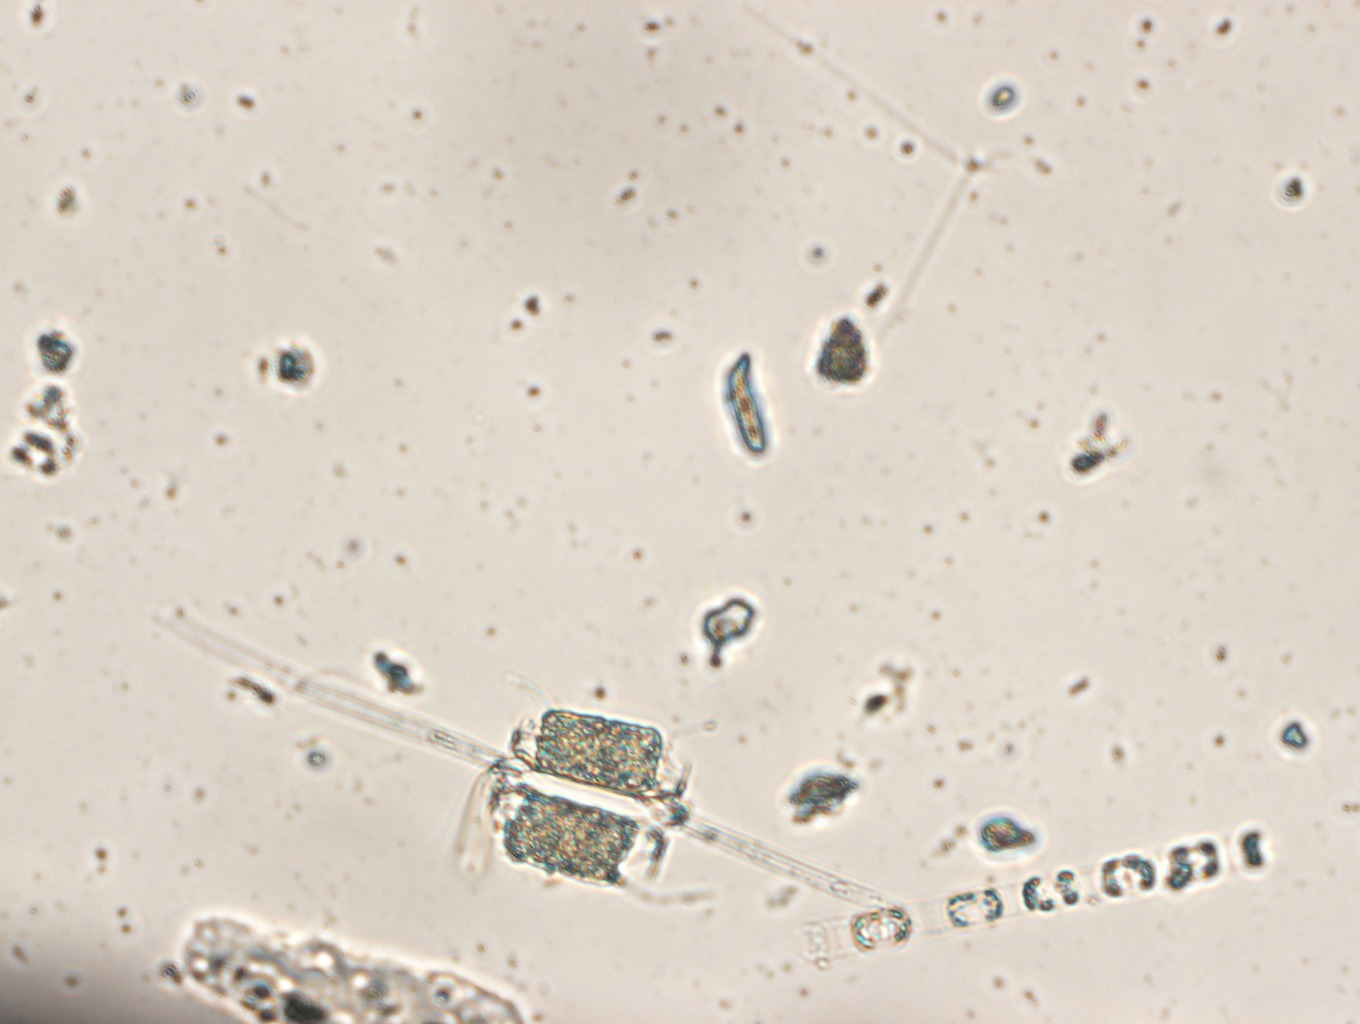chaetoceros: (455, 673, 716, 900)
skeletonema: (810, 835, 1269, 967)
